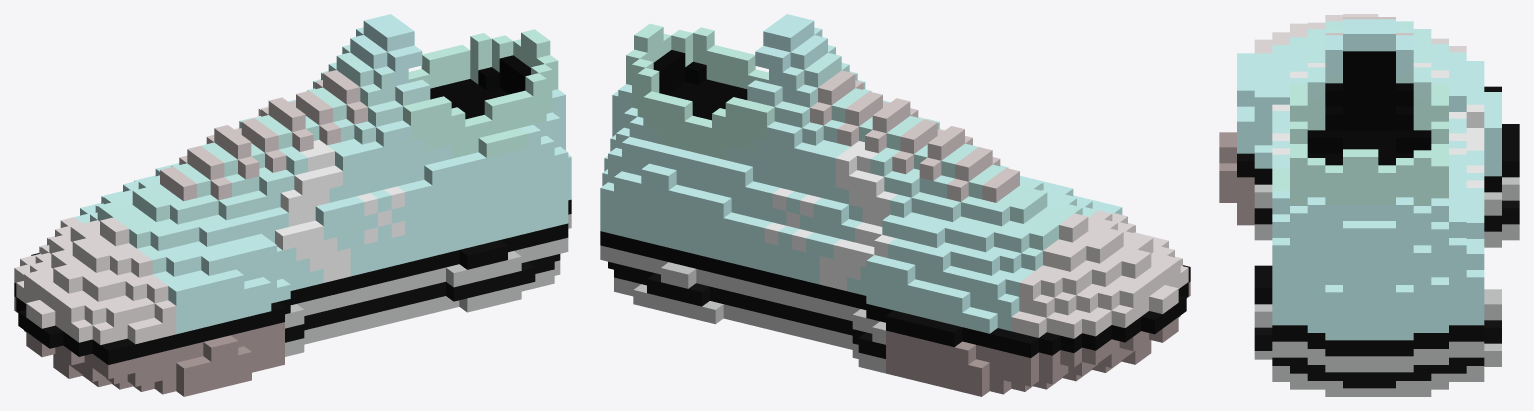
File: Ghost Sky.fbx
3 renders of one model, left to right at view 1: azimuth 30°, elevation 25°; view 2: azimuth 150°, elevation 25°; view 3: azimuth 270°, elevation 25°, orthographic. The views are drawn at different scales.
Parts seen in each view (by area): view 1: Untitled; view 2: Untitled; view 3: Untitled.
Boxes of the visible parts, box(x1,y1,x2,y2) form: Untitled: box(14, 14, 571, 396); Untitled: box(600, 14, 1190, 396); Untitled: box(1219, 14, 1519, 396).
Bounding box in the file's own units: 390 × 180 × 170.
